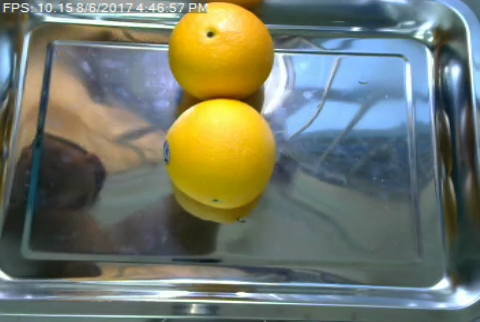Orange: (162, 99, 276, 210), (167, 2, 274, 102)
